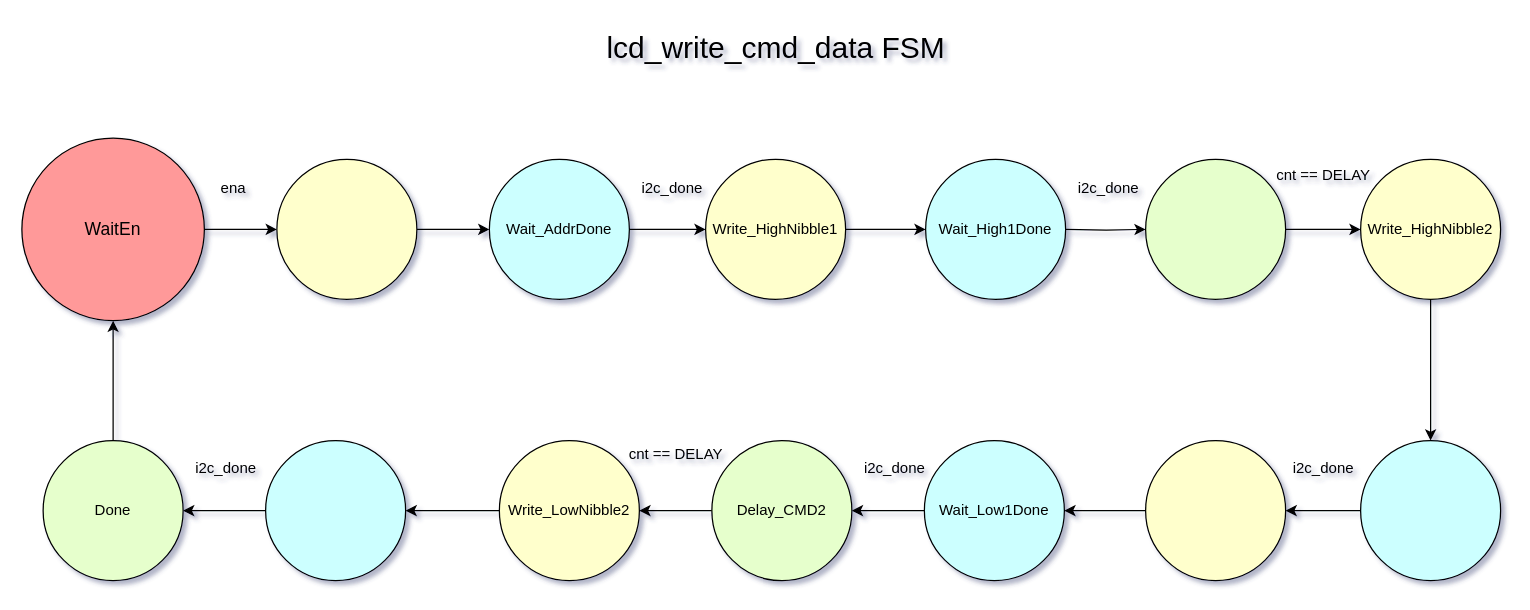
The diagram is 1530 pixels wide and 610 high, and some of its shapes have lost their labels. Here are the shapes that lost their labels. From the top down, the centre of each, then its label:
At [346,228]: "Write_Addr".
At [1215,228]: "Delay_CMD1".
At [335,510]: "Wait_Low2Done".
At [1215,510]: "Write_LowNibble1".
At [1430,510]: "Wait_High2Done".
